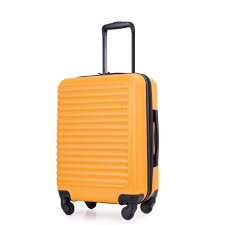suitcase: (55, 20, 161, 220)
